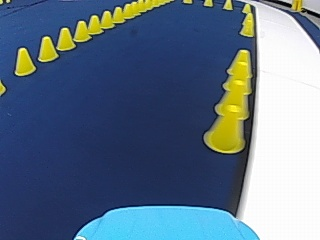cone: (203, 51, 253, 147), (203, 96, 247, 152), (227, 49, 252, 82), (13, 46, 35, 75), (37, 35, 58, 61), (56, 26, 75, 50), (239, 10, 253, 36), (73, 20, 90, 41), (99, 10, 114, 29), (87, 14, 101, 34), (111, 6, 124, 22), (122, 3, 133, 18), (130, 1, 140, 14), (291, 0, 301, 11), (222, 0, 233, 9)
